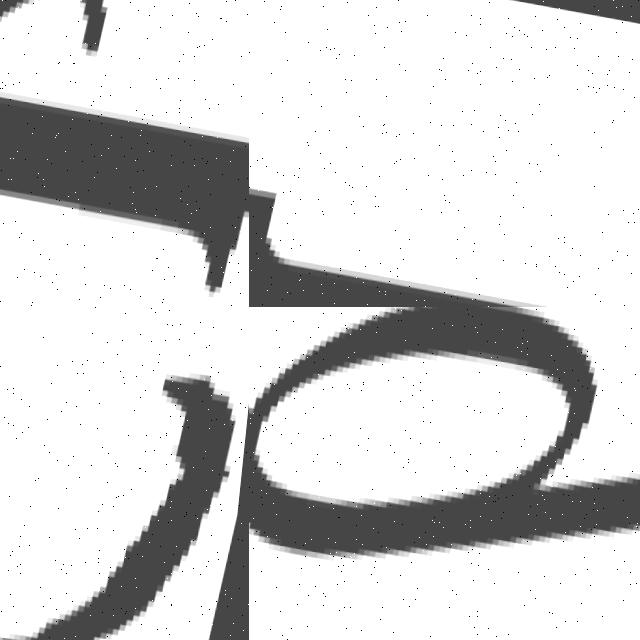B: (249, 307, 640, 559)
I: (249, 174, 640, 307)
K: (0, 0, 249, 307)
S: (0, 307, 249, 640)
